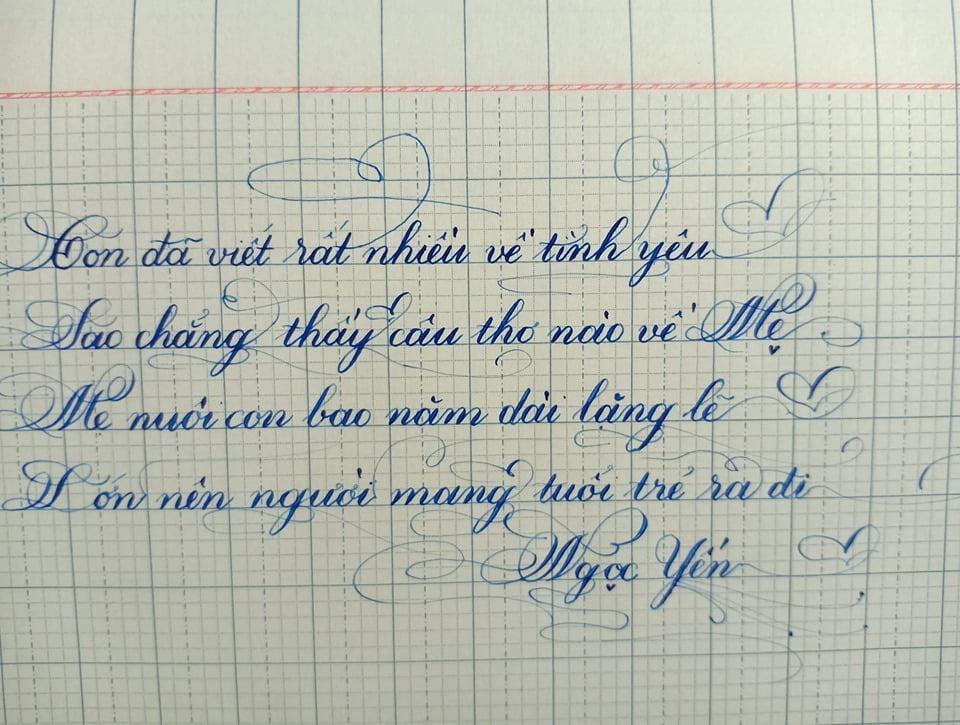text: (0, 118, 840, 298), (0, 433, 960, 541), (346, 502, 886, 691), (0, 269, 869, 383), (0, 363, 859, 456)
